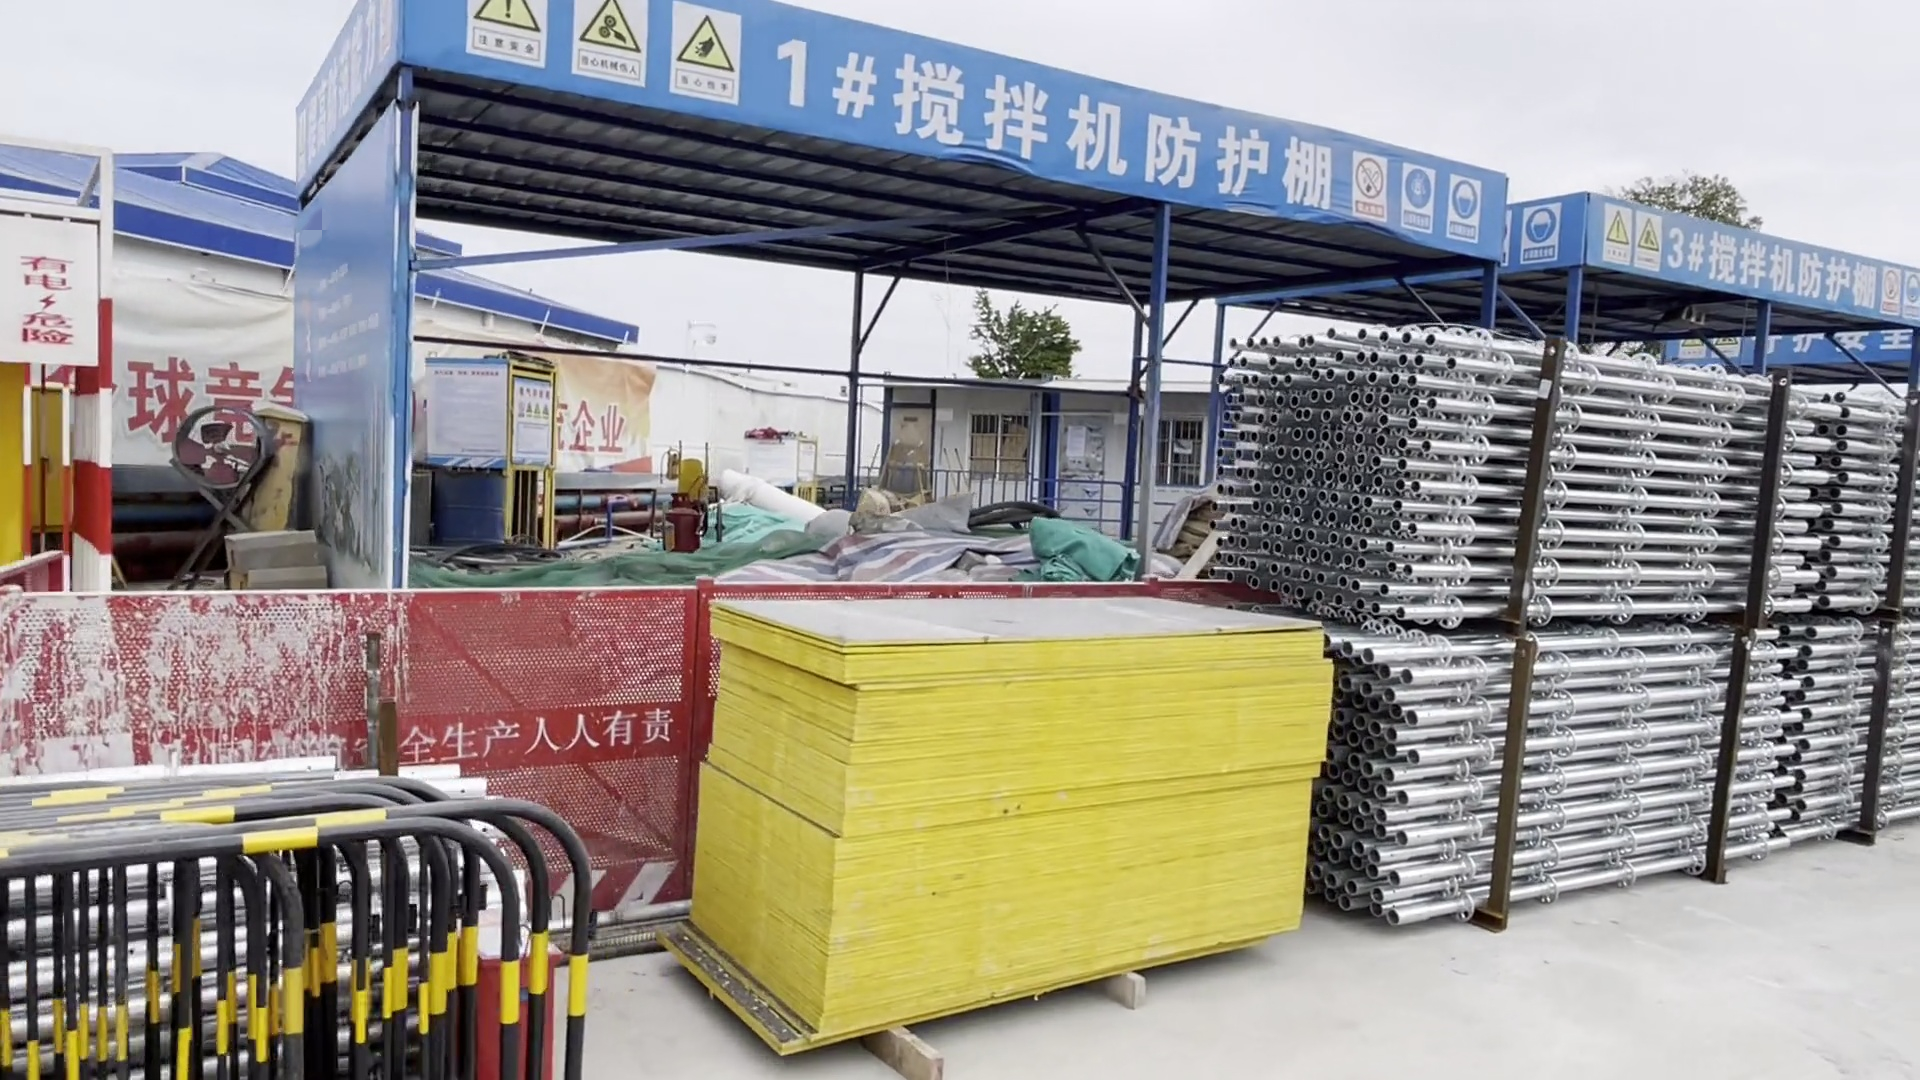board: (696, 604, 1296, 1022)
fence: (1, 595, 702, 1064)
scaffold: (1233, 336, 1920, 914)
slogan: (120, 343, 641, 481), (1335, 145, 1668, 287), (469, 1, 744, 119)
